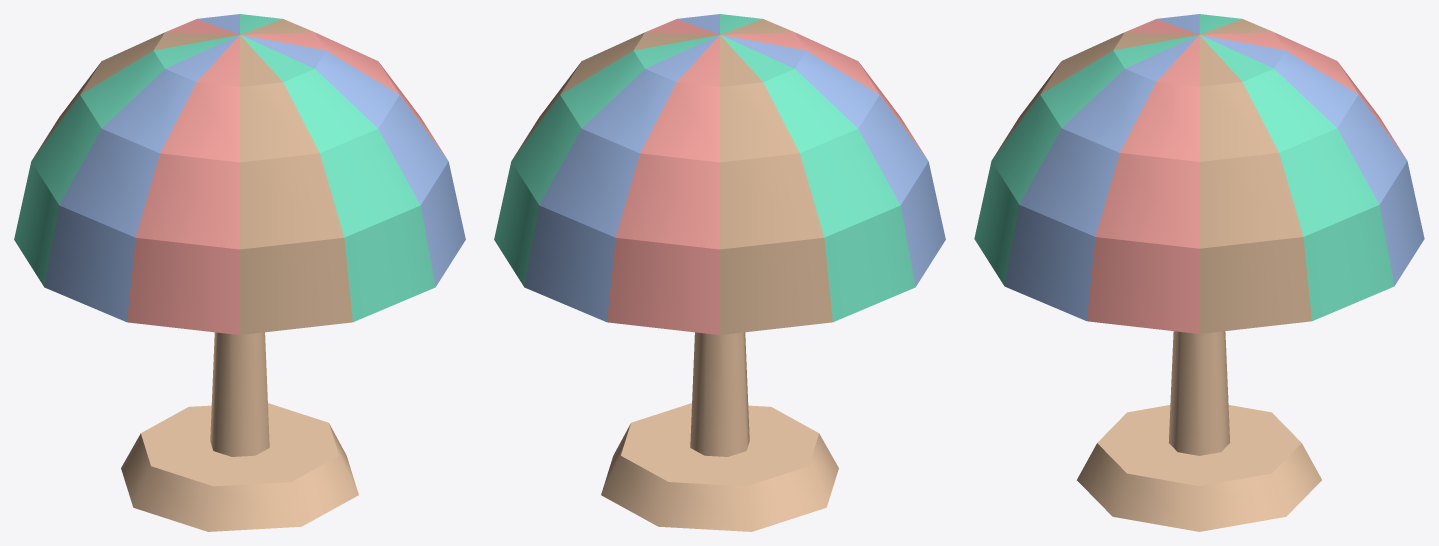
The model's file is lampTiffany.glb.
The picture shows the model from 3 angles, left to right: view 1: azimuth 30°, elevation 25°; view 2: azimuth 150°, elevation 25°; view 3: azimuth 270°, elevation 25°; orthographic projection.
Visible parts, largest first — view 1: lampTiffany; view 2: lampTiffany; view 3: lampTiffany.
Part boxes in pixels (left/top/right/bottom): lampTiffany: left=14, top=14, right=465, bottom=531; lampTiffany: left=494, top=14, right=945, bottom=531; lampTiffany: left=974, top=14, right=1424, bottom=531.
Size of the model in its own units: 0.22 by 0.24 by 0.22.
